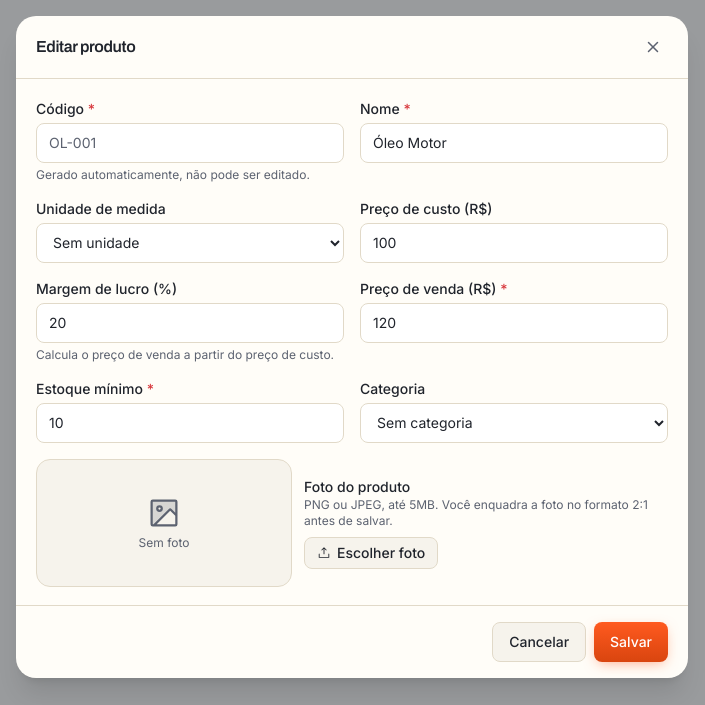
Test: ProdutoFormModal › recalculates precoVenda when the user edits margem de lucro while editing an existing produto
Replace the text in the number field labelled "Margem de lucro (%)" with "50" at (190, 323), box [36, 303, 344, 343]
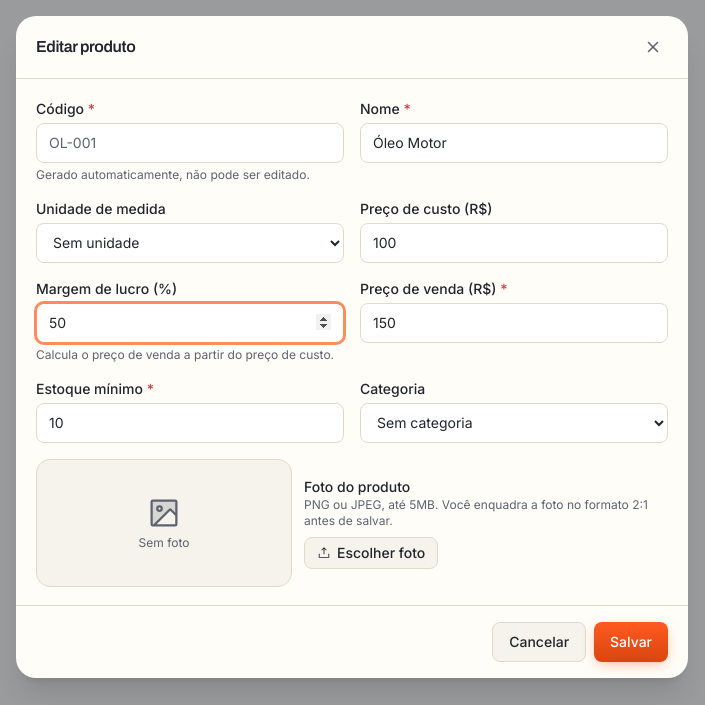
Expected: the number field labelled "Preço de venda (R$) *" holds "150", [360, 303, 668, 343]
